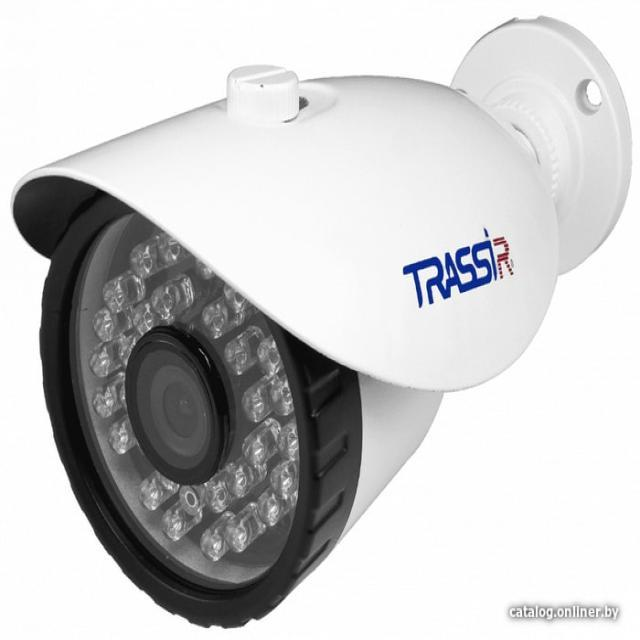hidden camera: (110, 319, 248, 497)
